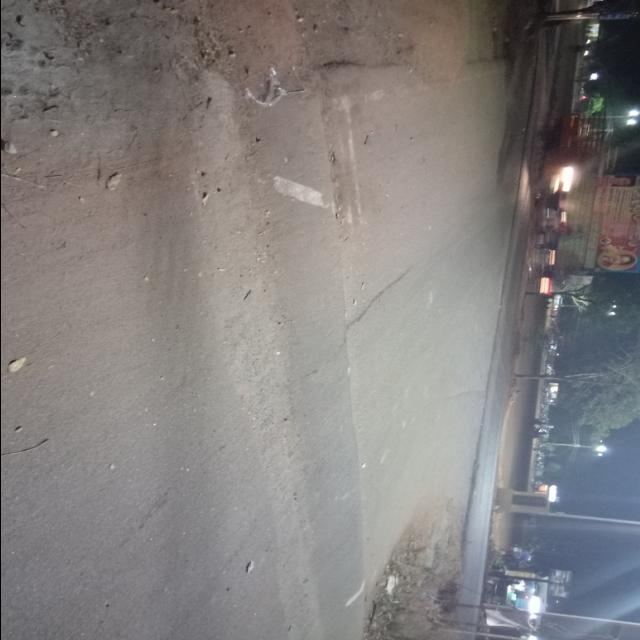Speed_Breaker: (232, 80, 379, 631), (243, 92, 363, 639)
